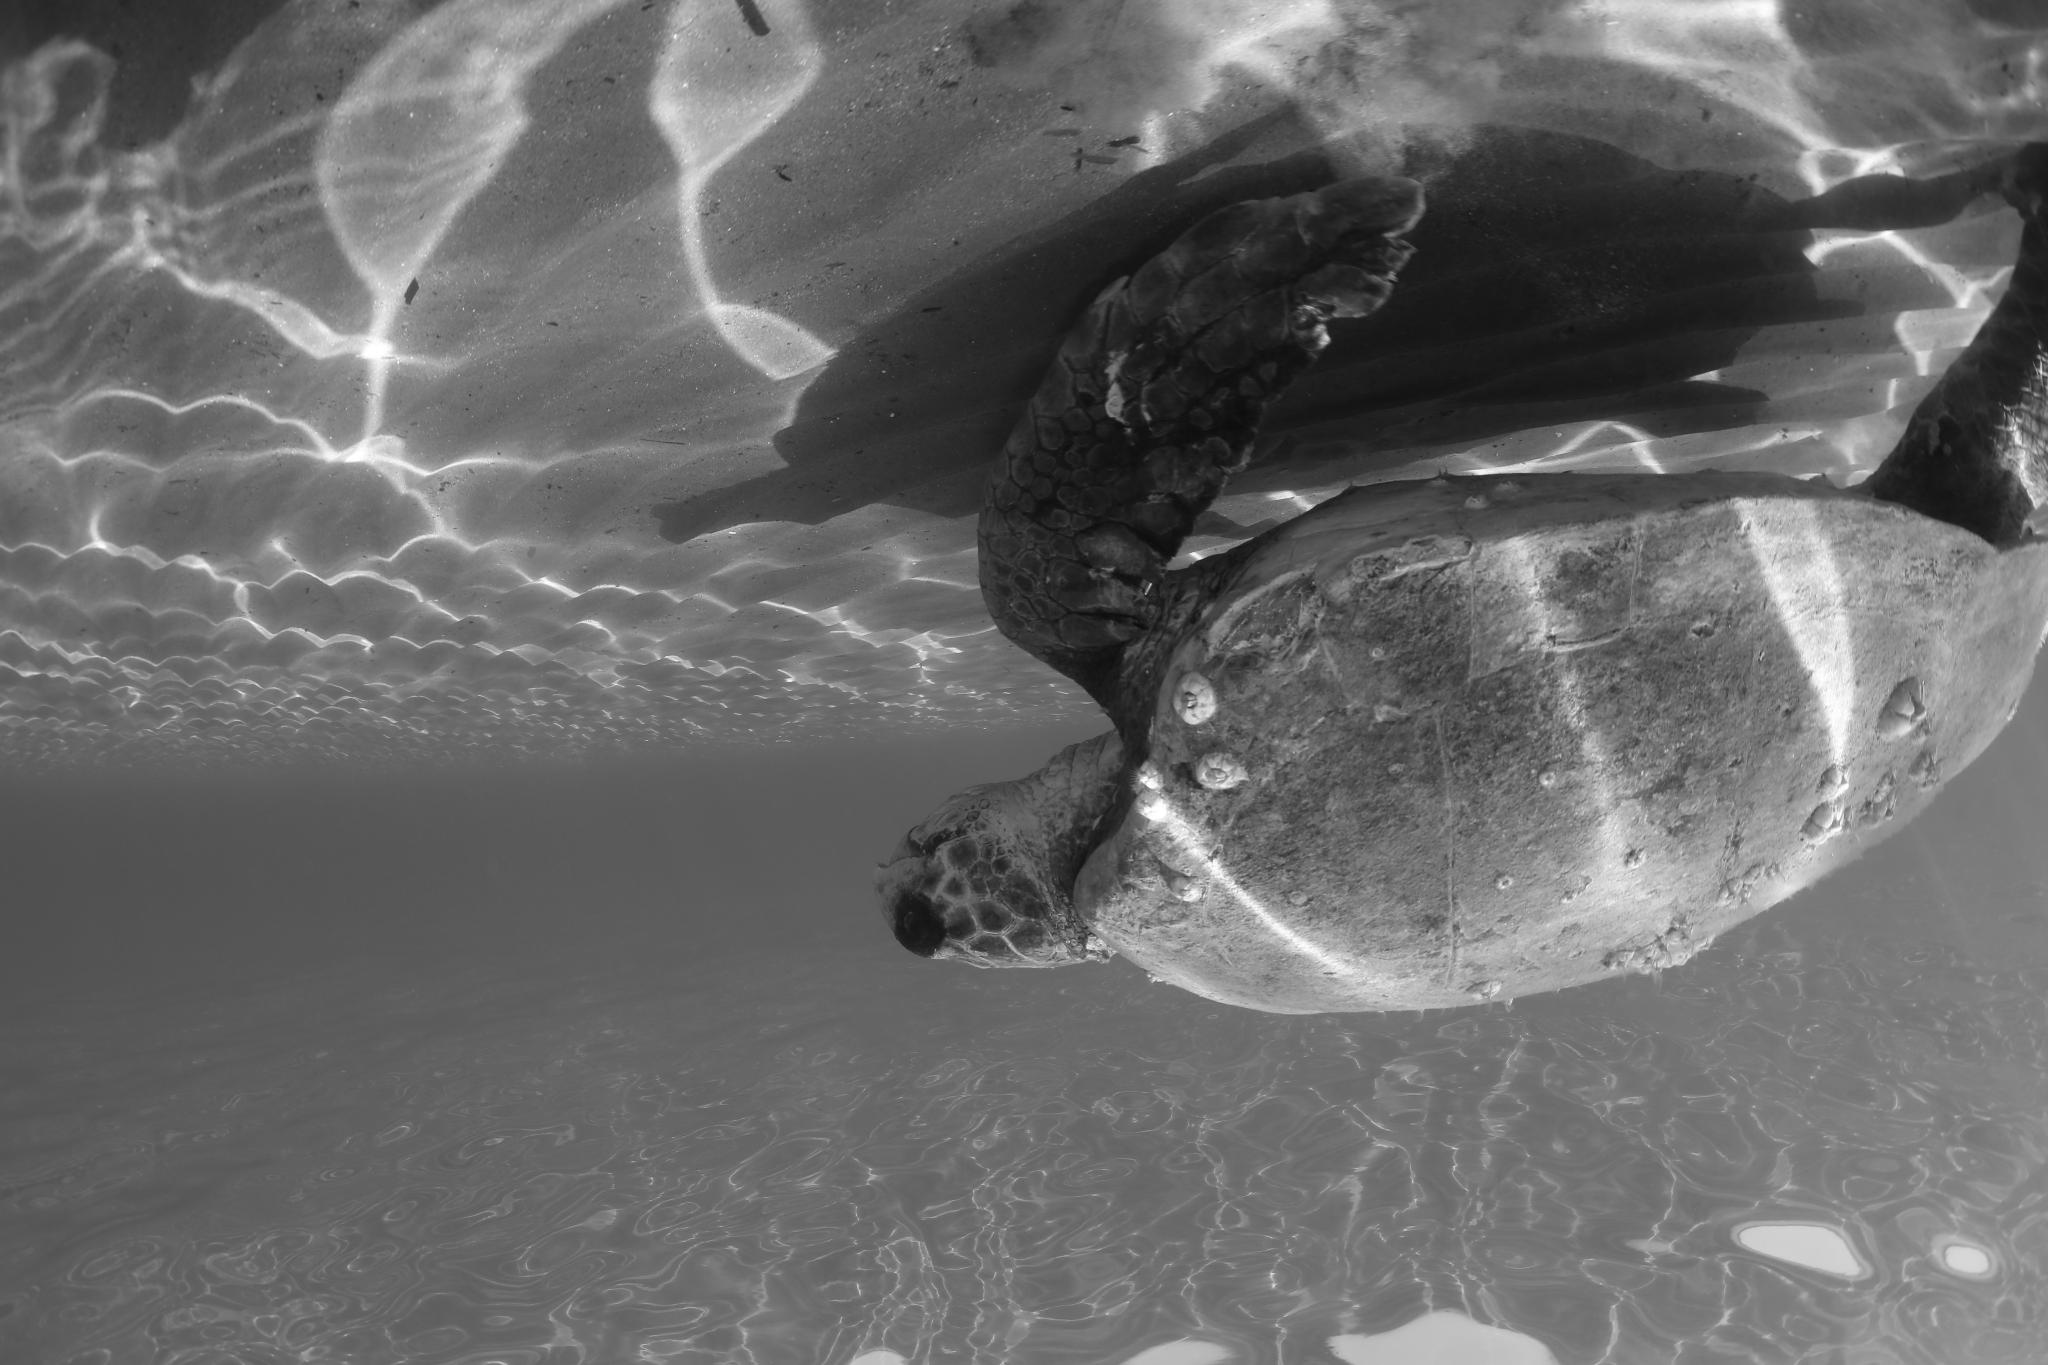Head: (874, 749, 1120, 968)
